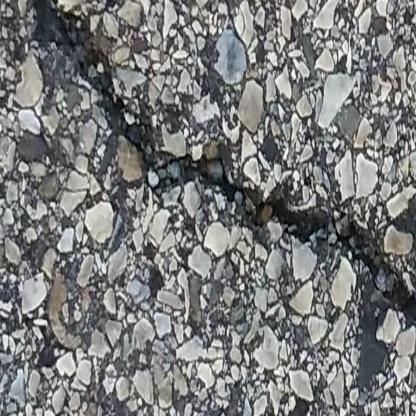Cracks: (32, 0, 416, 323)
